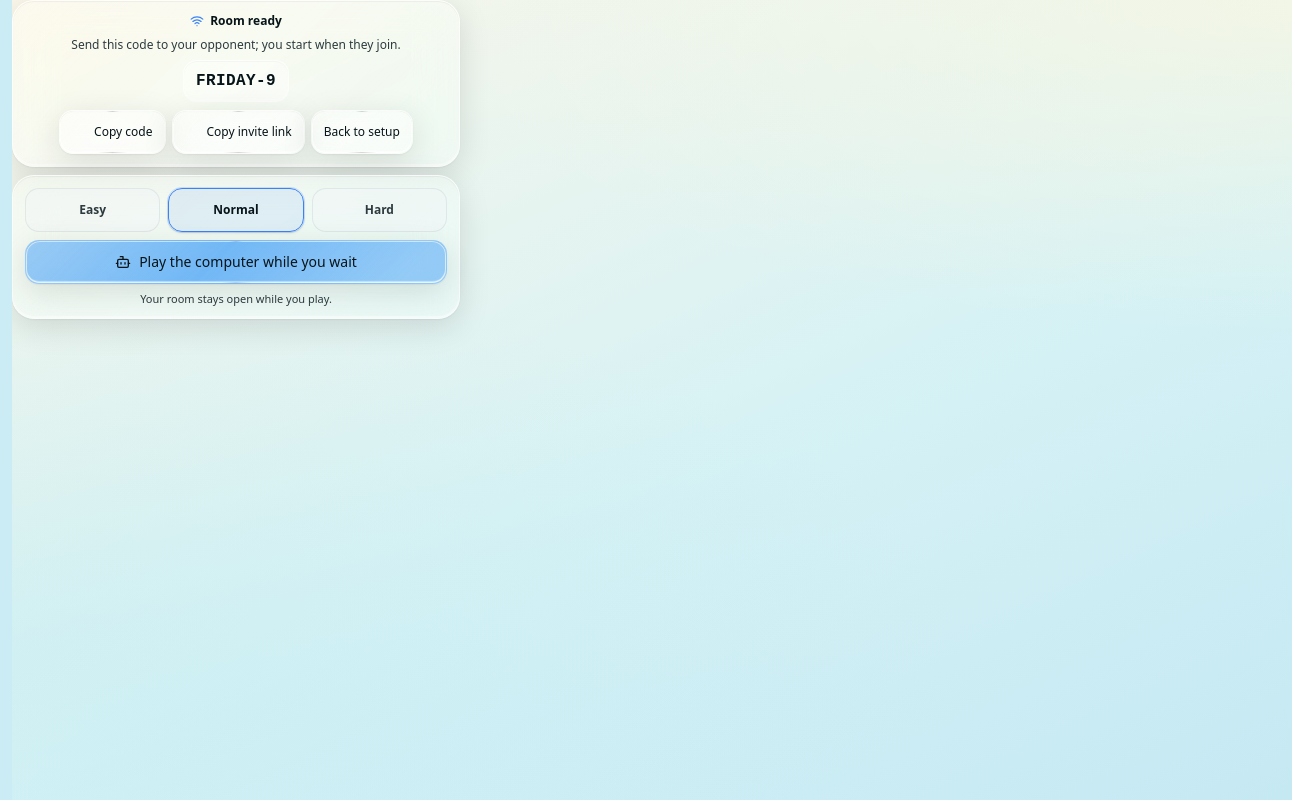
Test case: OnlineGameSurface play while you wait (created room) › ending the computer game brings the room card back, still open
The width and height of the screenshot is (1292, 800).
Click the button "Play the computer while you wait" at [236, 262], box left=25, top=240, right=447, bottom=284
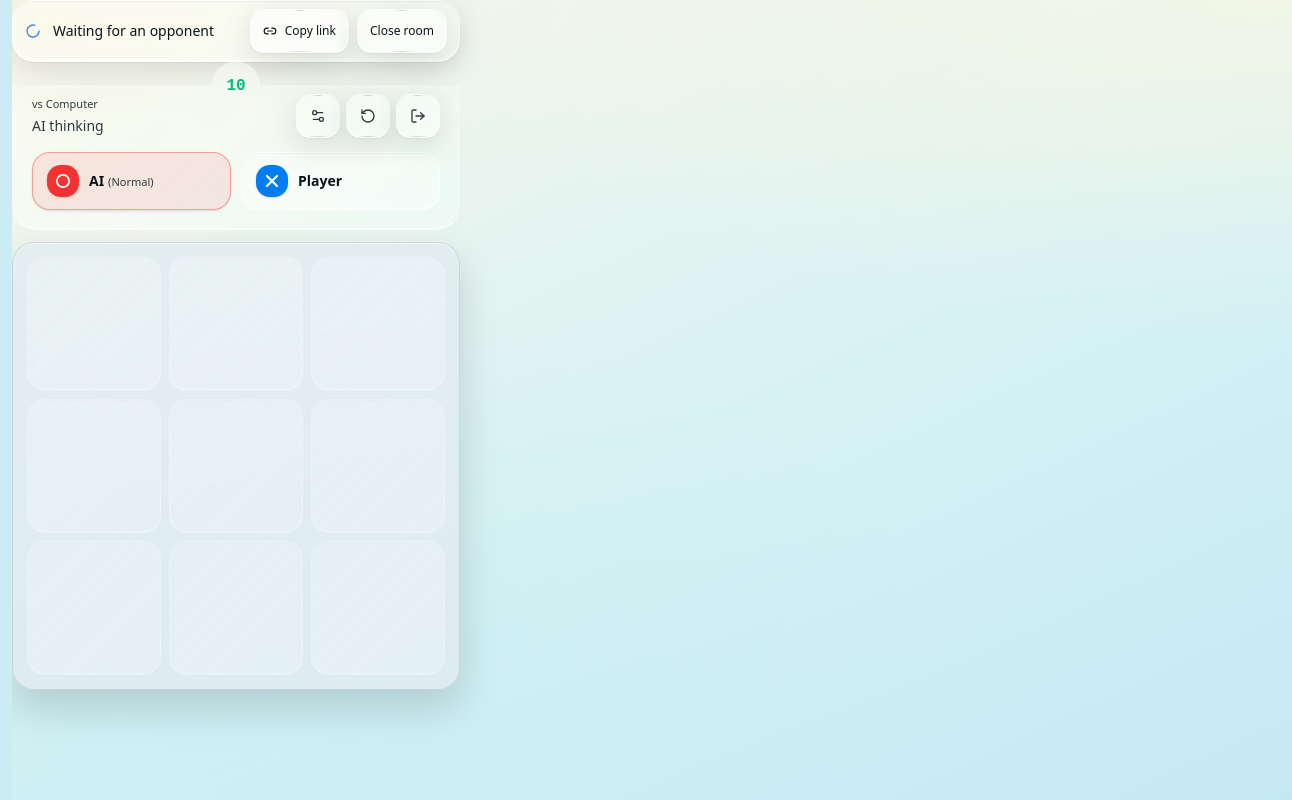
Click the button named "Exit game" at [418, 116], box left=396, top=94, right=440, bottom=138
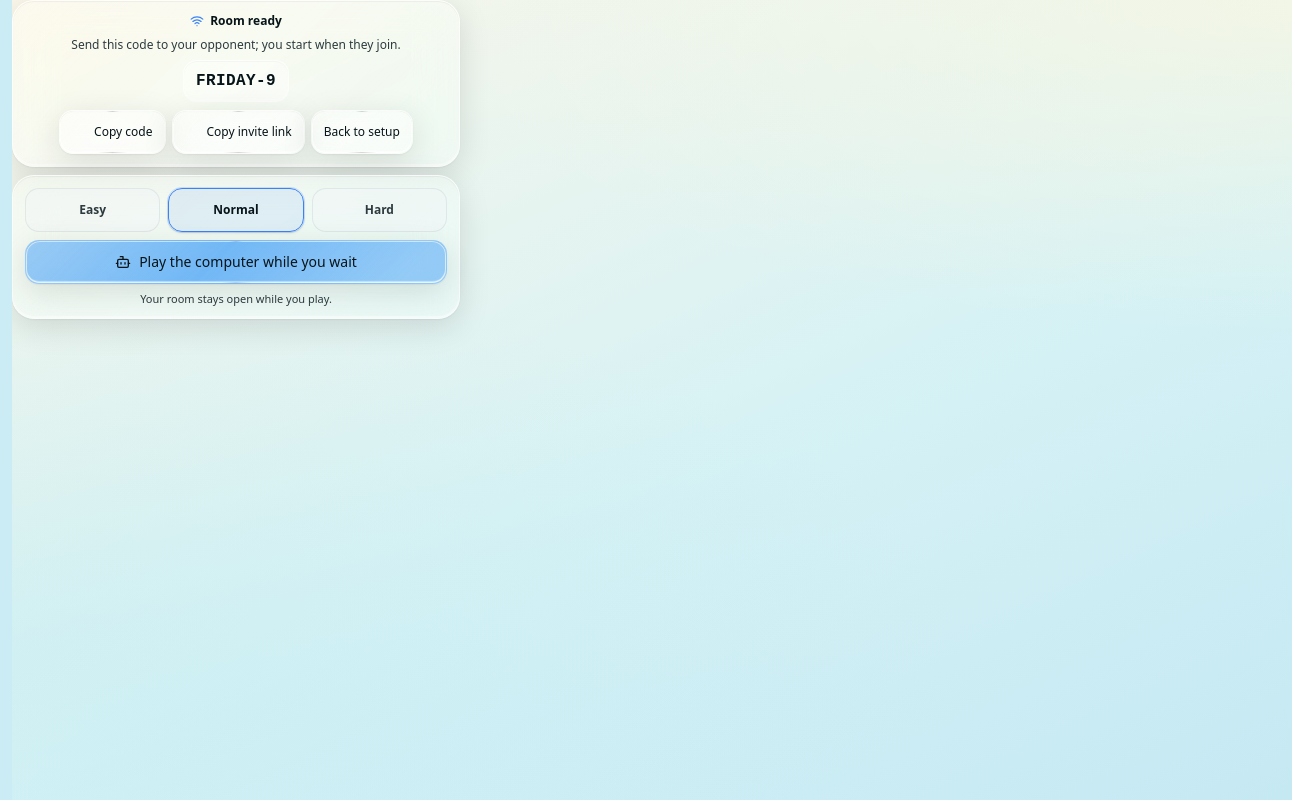
Expected: the text "FRIDAY-9" is shown, left=183, top=60, right=289, bottom=102
Expected: the button "Play the computer while you wait" is shown, left=25, top=240, right=447, bottom=284
